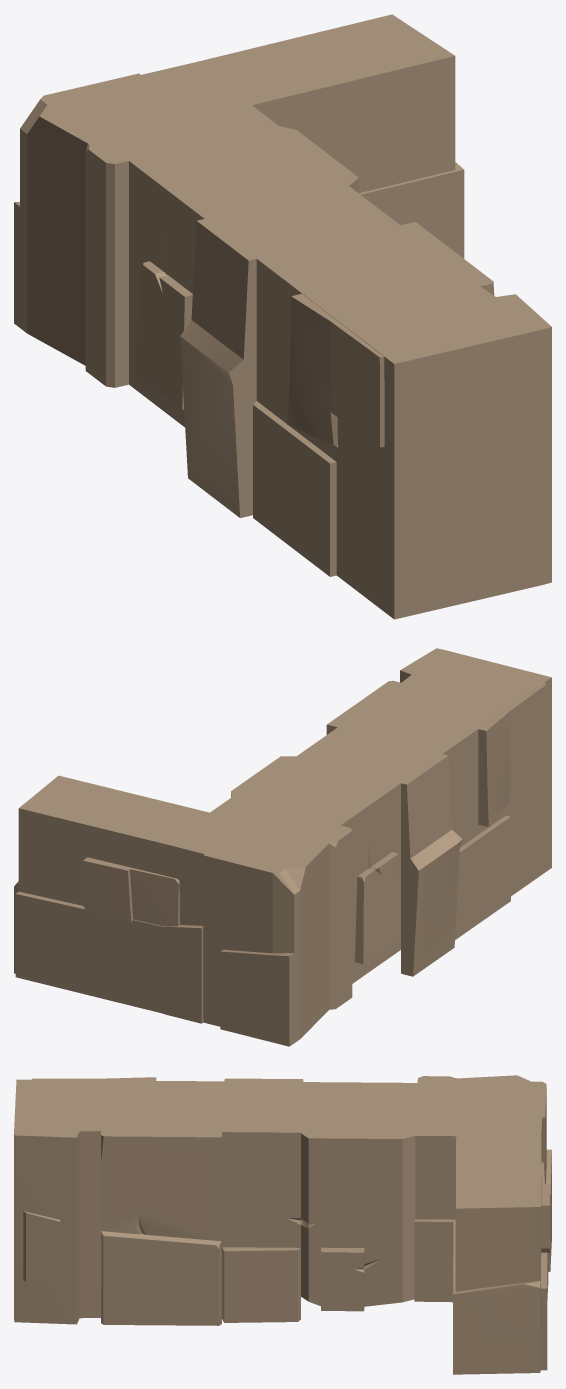
The model's file is ston wall1.FBX.
3 renders of one model, top to bottom at view 1: azimuth 30°, elevation 25°; view 2: azimuth 150°, elevation 25°; view 3: azimuth 270°, elevation 25°, orthographic. The views are drawn at different scales.
Parts seen in each view (by area): view 1: wall; view 2: wall; view 3: wall.
Boxes of the visible parts, x1=… form: wall: x1=14, y1=14, x2=551, y2=619; wall: x1=14, y1=648, x2=551, y2=1046; wall: x1=14, y1=1075, x2=551, y2=1374.
Bounding box in the file's own units: 38.67 × 24.13 × 62.99.
